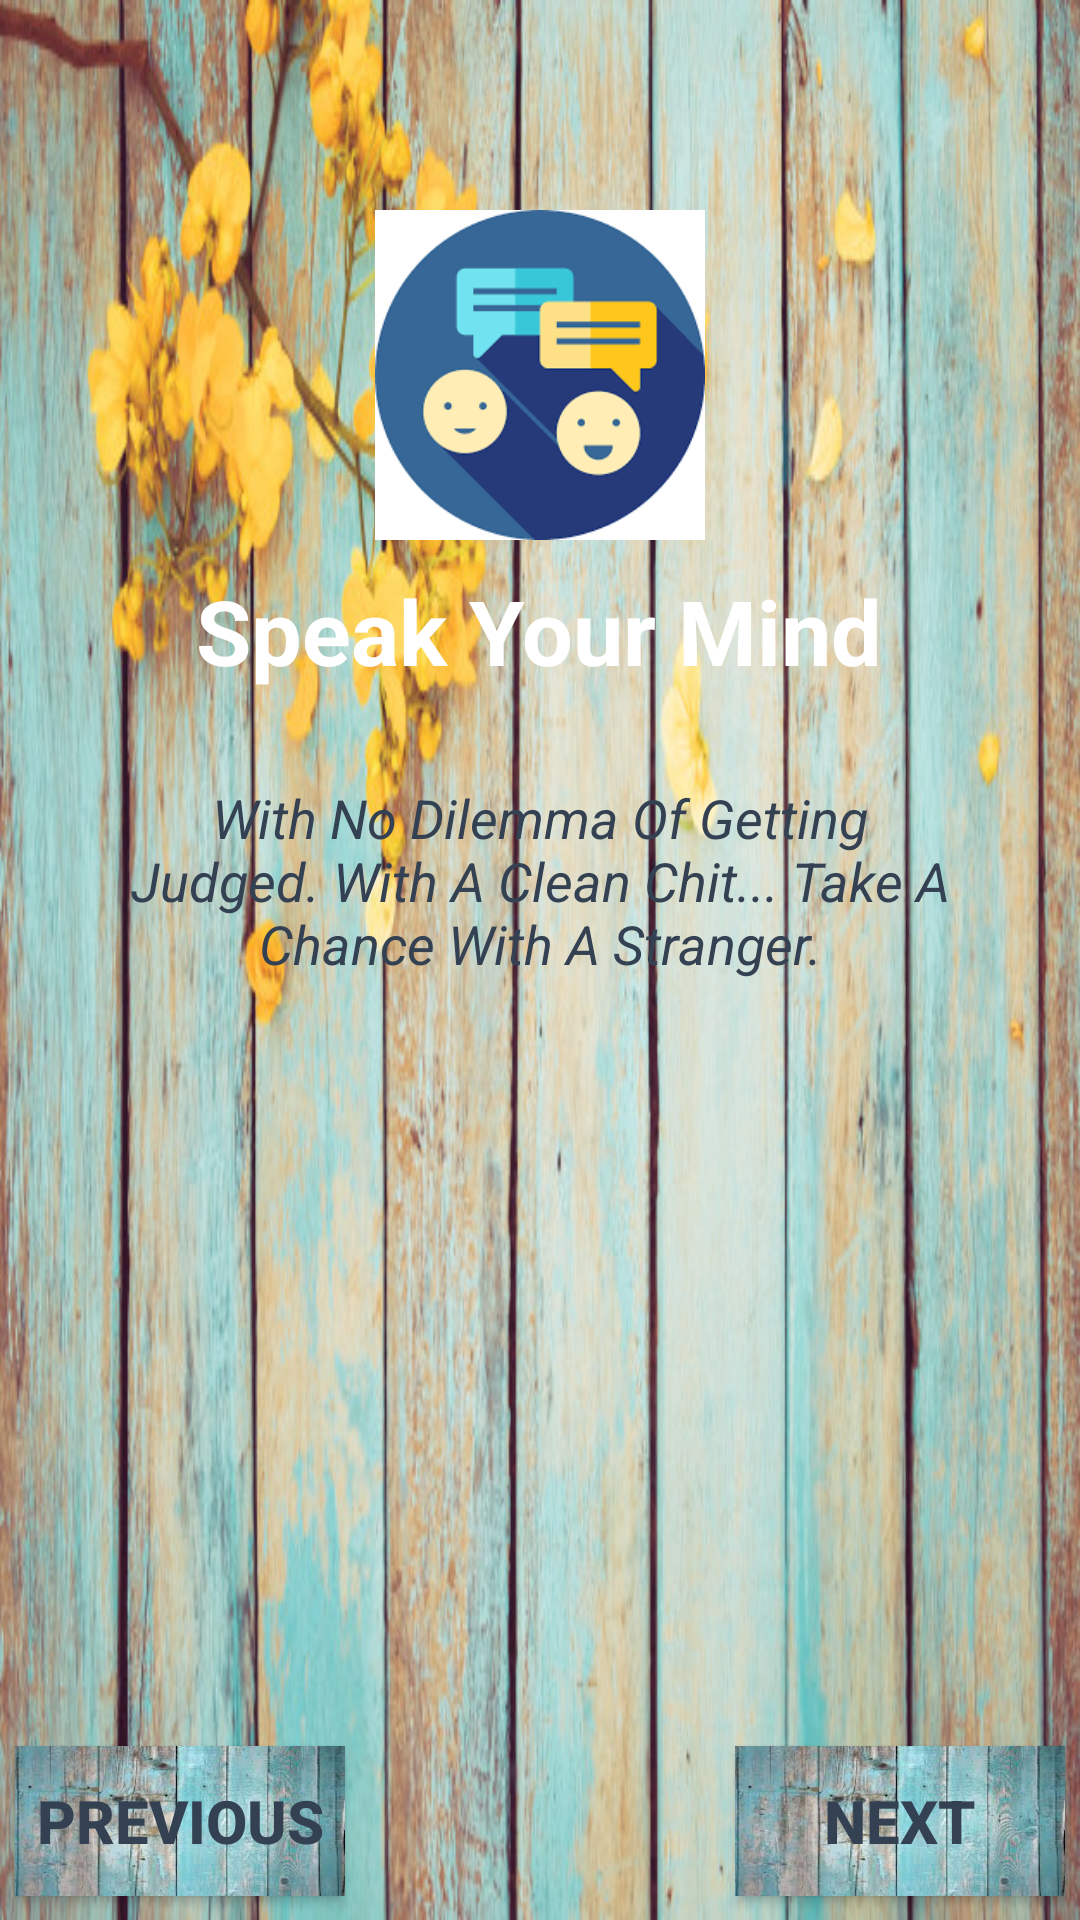

Point at icon controls on the screen. Image size 1080w x 1920h, points as point (x, y).
chaticon: point (540, 375)
